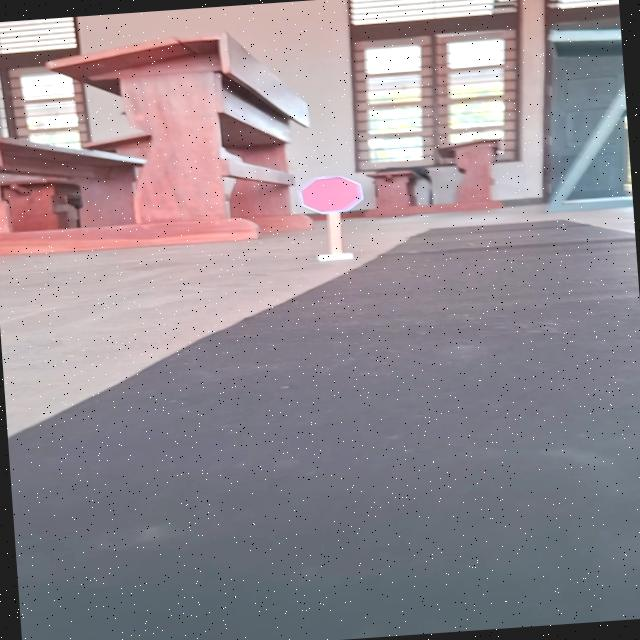Stop: (293, 172, 367, 215)
